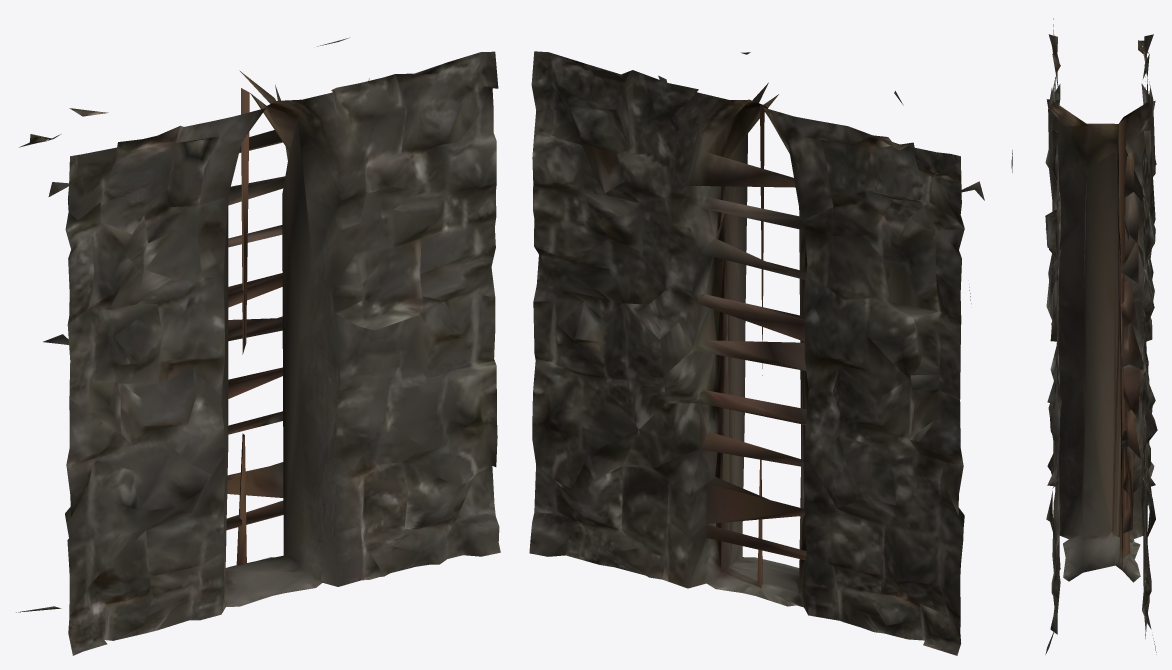
The model's file is wall_window_ready.glb.
3 renders of one model, left to right at view 1: azimuth 30°, elevation 25°; view 2: azimuth 150°, elevation 25°; view 3: azimuth 270°, elevation 25°, orthographic. The views are drawn at different scales.
Visible parts, largest first — view 1: Module; view 2: Module; view 3: Module.
Part boxes in pixels (<box>): Module: <box>16,37,500,655</box>; Module: <box>529,51,1012,655</box>; Module: <box>1045,18,1157,654</box>.
Bounding box in the file's own units: 2 × 2.24 × 0.5.
1 material, 1 textured.
